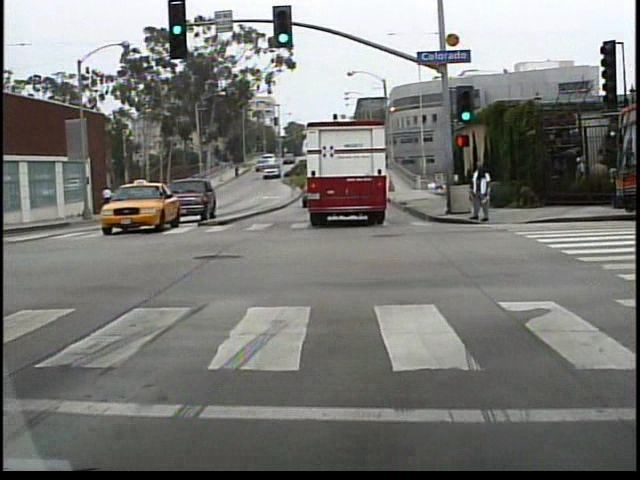person: (467, 162, 492, 223), (102, 184, 121, 216)
